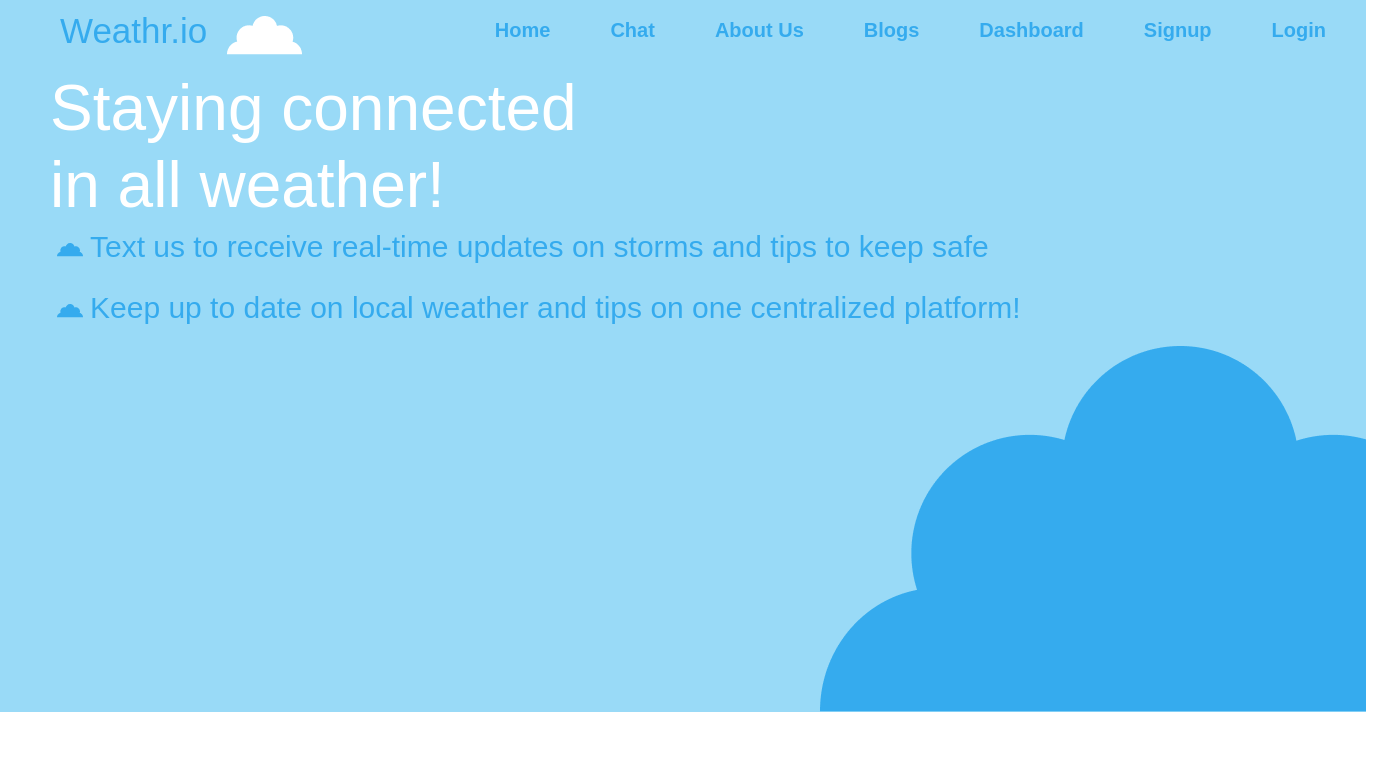
Test: App component › renders appropriate content based on clicking navigation
Click the link with test id "chat-link" at (633,30), box [610,15,655,45]
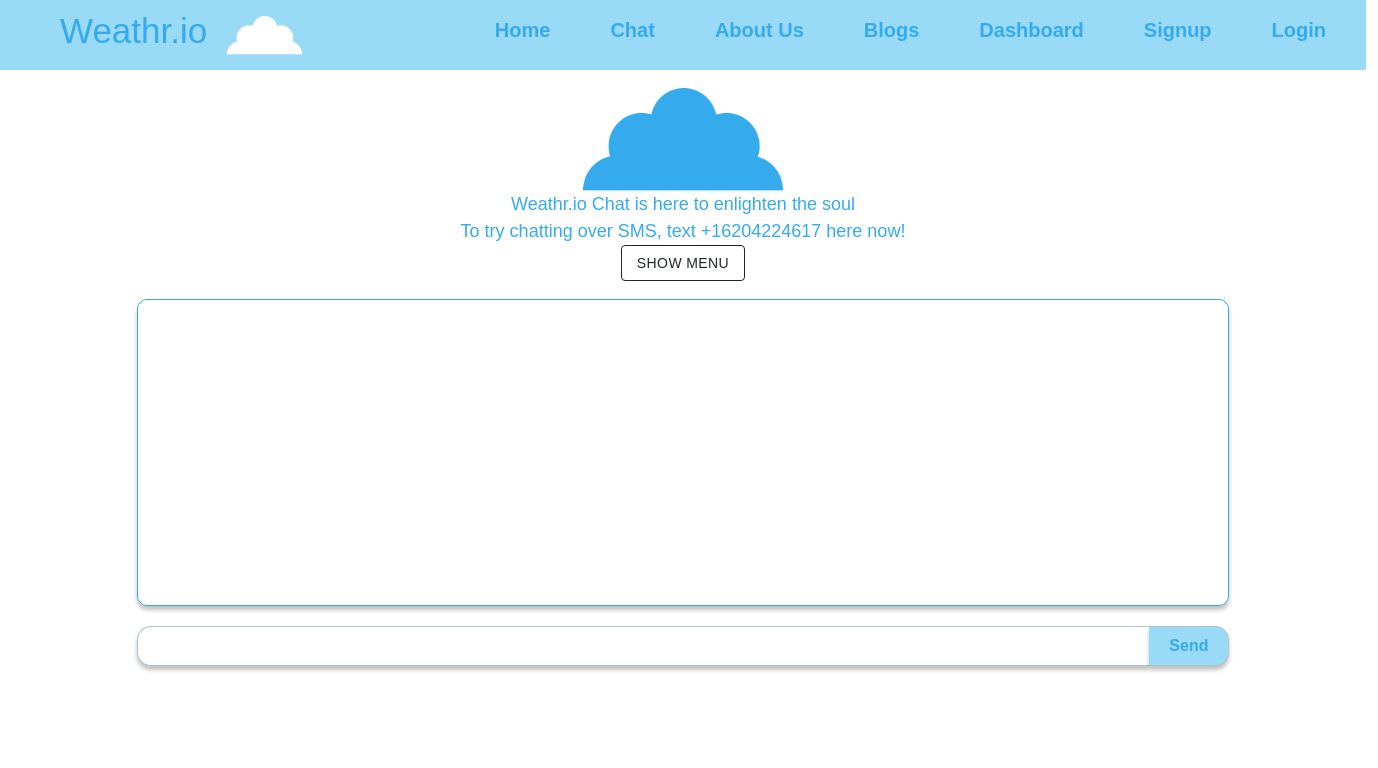
Check: the 1st element with test id "chat-container" is shown, box [137,88,1229,666]
